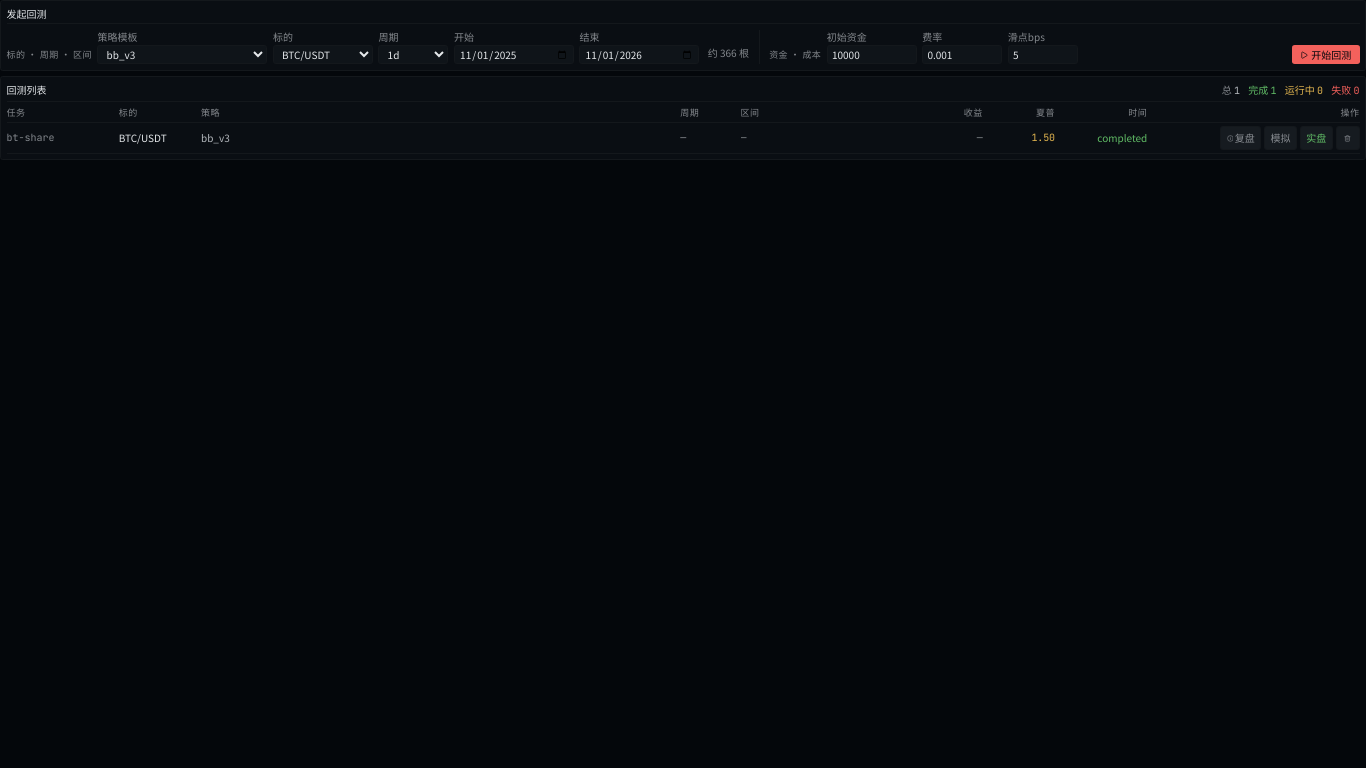
Test: K线复盘卡(打开即展开) › 步进按钮:下一笔到 2/2,到底禁用
The image size is (1366, 768).
Click the button "复盘". click: (1241, 138)
box: [1220,126,1261,150]
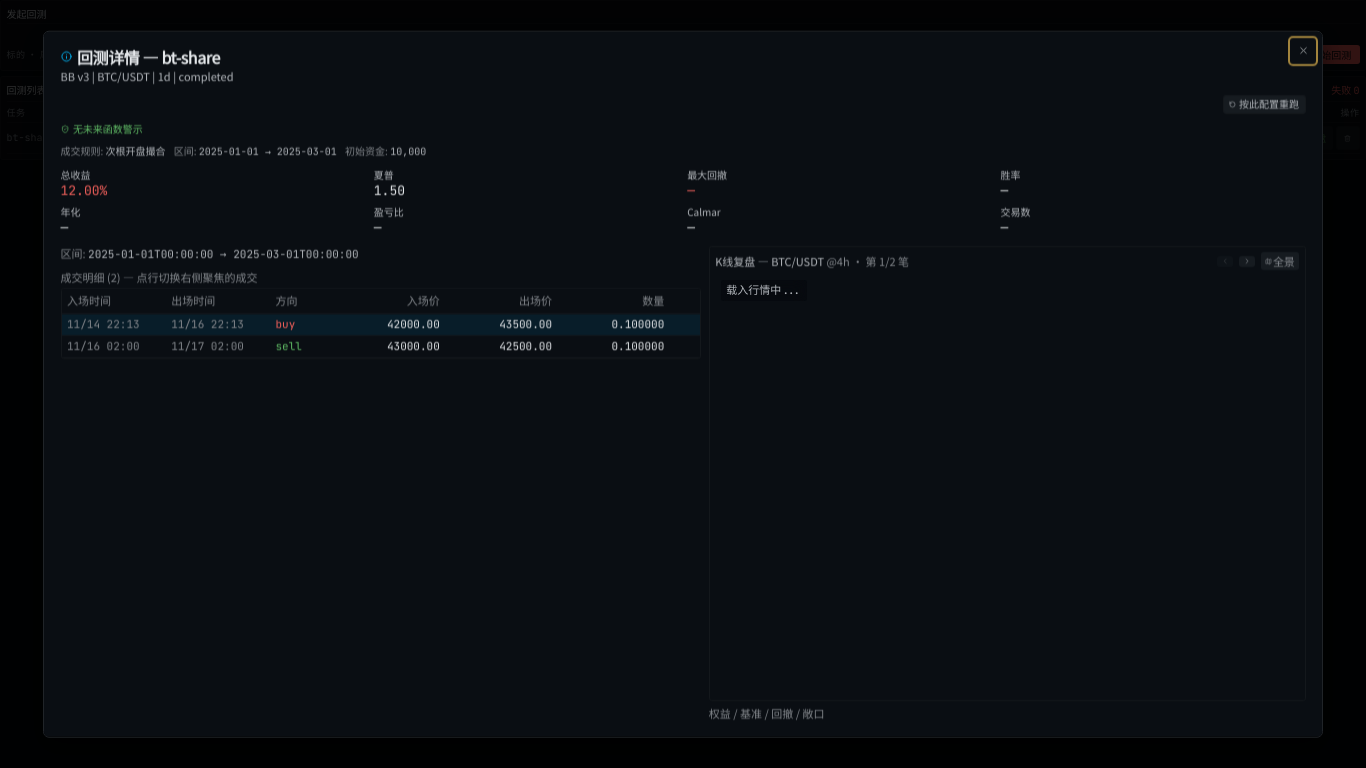
expect the text "· 第 1/2 笔" is shown: met, box [850,252,909,268]
Click the button titled "下一笔". click: (1247, 261)
box: [1238,255,1255,266]
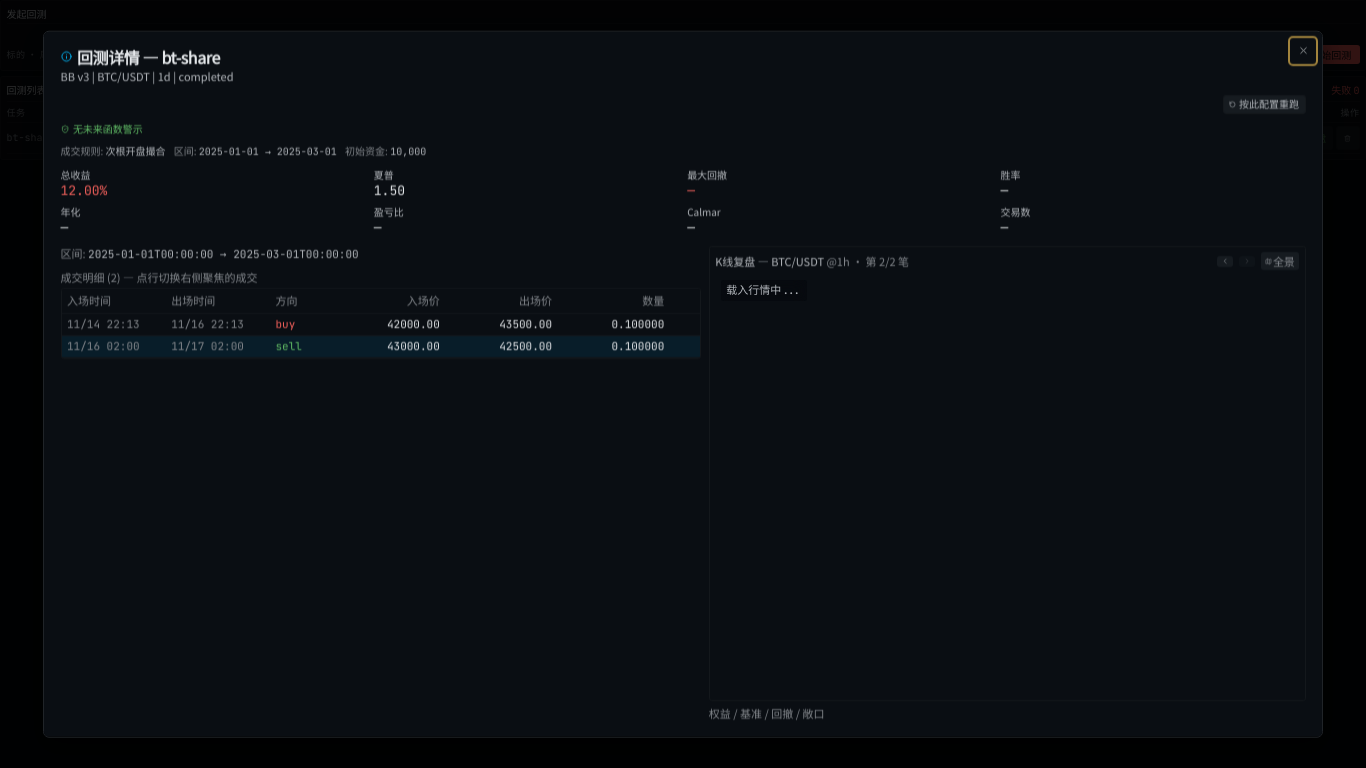
expect the text "· 第 2/2 笔" is shown: met, box [850,252,909,268]
